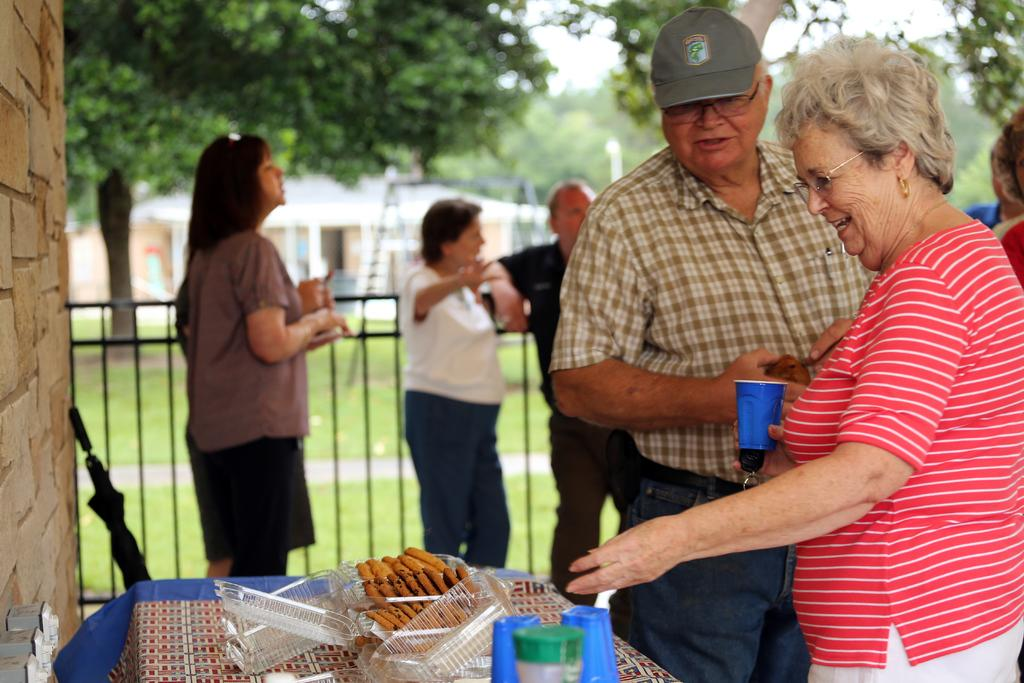Hat: (649, 6, 766, 109)
